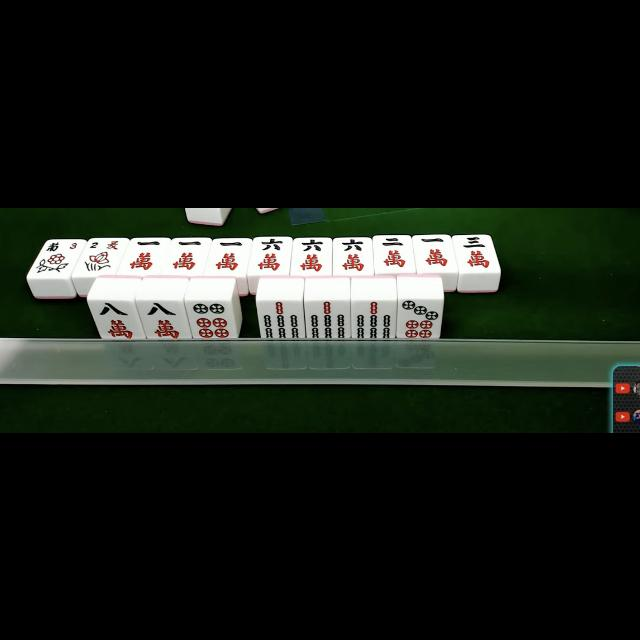b7: (259, 300, 303, 338), (305, 300, 349, 338), (352, 300, 394, 338)
c1: (166, 238, 207, 274), (416, 234, 454, 272), (210, 237, 248, 275), (124, 238, 164, 274)
c2: (374, 234, 414, 272)
c3: (456, 234, 496, 272)
c6: (292, 237, 332, 275), (333, 236, 373, 274), (252, 236, 290, 274)
c8: (141, 298, 187, 338), (93, 300, 139, 338)
d6: (190, 300, 232, 338)
d7: (399, 297, 441, 337)
f3: (39, 238, 81, 255)
s2: (85, 238, 123, 252)
